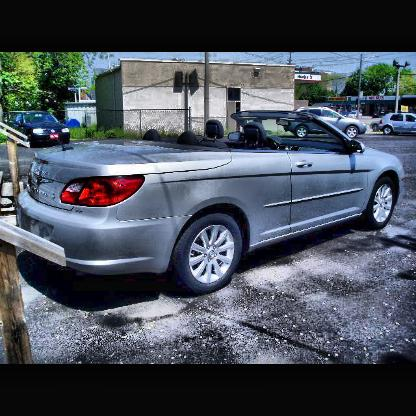Chrysler Sebring Convertible 2010: (15, 112, 403, 295)
